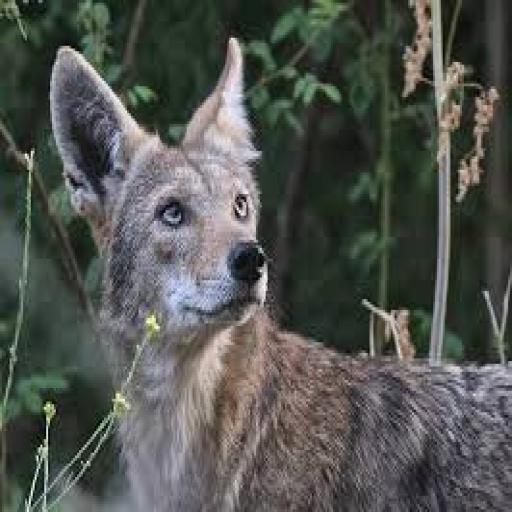wolf: (27, 19, 512, 509)
